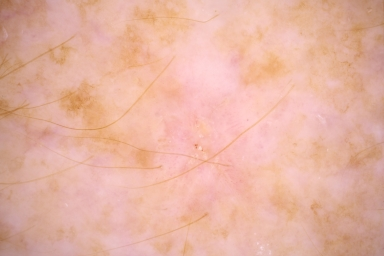melanoma: (153, 36, 272, 211)
